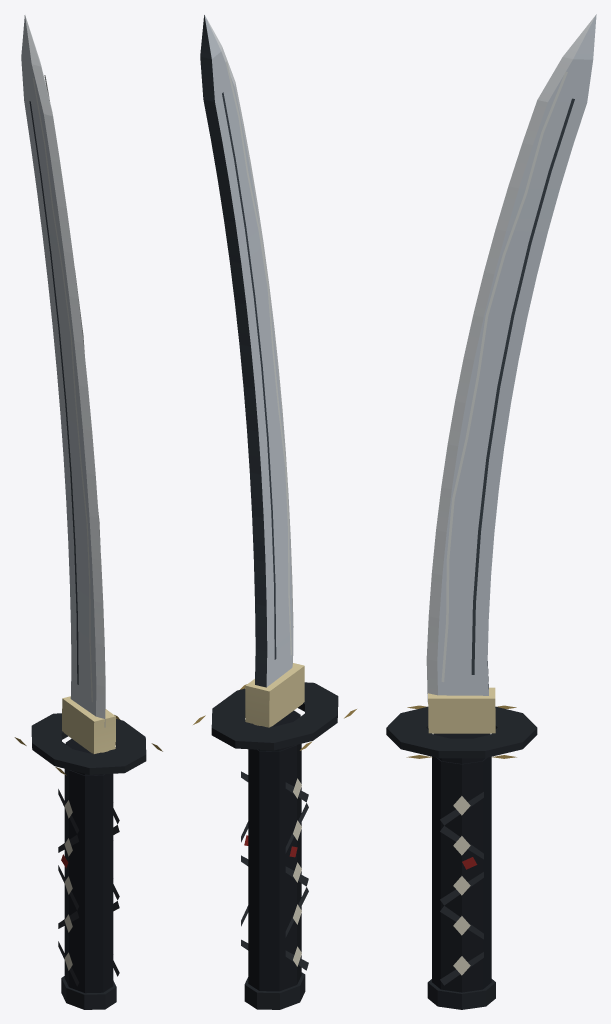
The model's file is weapon_blade_07.glb.
3 views of the same model, side by side, from view 1: azimuth 30°, elevation 25°; view 2: azimuth 150°, elevation 25°; view 3: azimuth 270°, elevation 25° (orthographic). The views are drawn at different scales.
Visible parts, largest first — view 1: weapon; view 2: weapon; view 3: weapon.
Part boxes in pixels (box(x1,y1,x2,y2)): weapon: box(14, 15, 162, 1009); weapon: box(193, 14, 356, 1009); weapon: box(386, 14, 596, 1009).
Size of the model in its own units: 0.0849 by 0.7871 by 0.1523.
